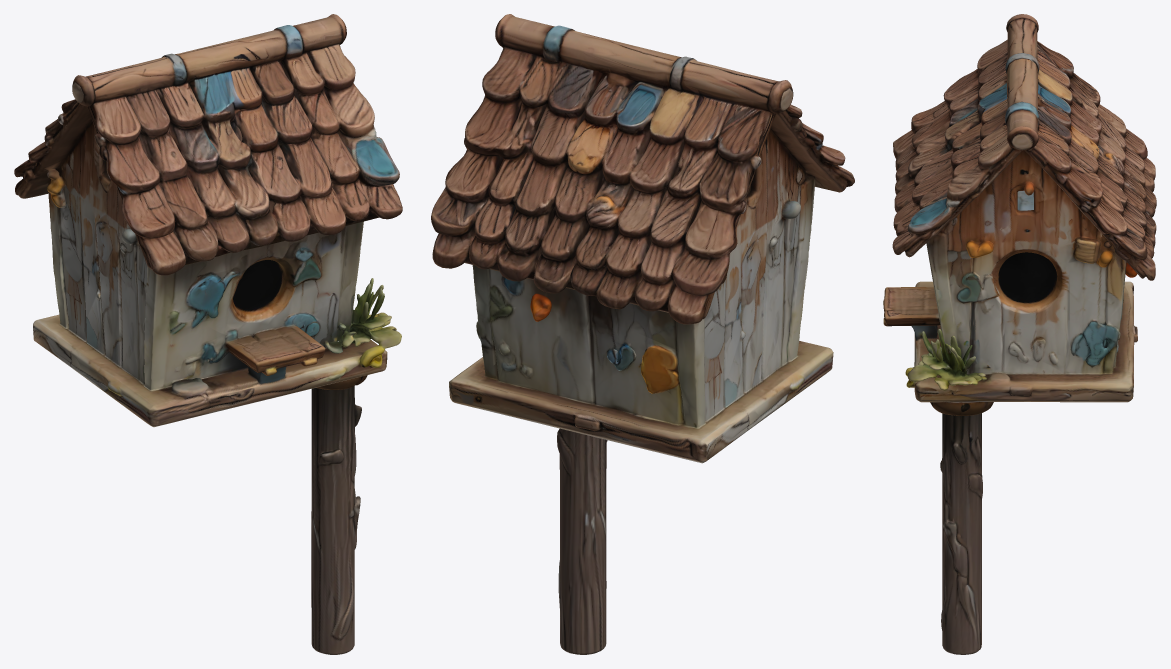
File: prop-birdhouse.glb
3 renders of one model, left to right at view 1: azimuth 30°, elevation 25°; view 2: azimuth 150°, elevation 25°; view 3: azimuth 270°, elevation 25°, orthographic. The views are drawn at different scales.
Parts seen in each view (by area): view 1: tripo_node_d709bda6-22de-4b50-b2ce-1601385afc90; view 2: tripo_node_d709bda6-22de-4b50-b2ce-1601385afc90; view 3: tripo_node_d709bda6-22de-4b50-b2ce-1601385afc90.
Part boxes in pixels (x1,y1,x2,y2): tripo_node_d709bda6-22de-4b50-b2ce-1601385afc90: (14,14,402,654); tripo_node_d709bda6-22de-4b50-b2ce-1601385afc90: (431,14,854,654); tripo_node_d709bda6-22de-4b50-b2ce-1601385afc90: (883,14,1156,654).
Size of the model in its own units: 0.9654 by 2 by 0.92.
1 material, 1 textured.
